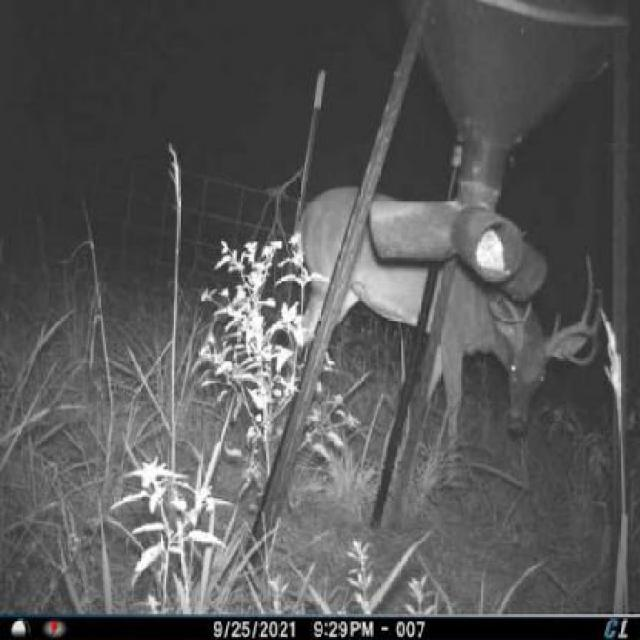Deer: (271, 182, 603, 492)
